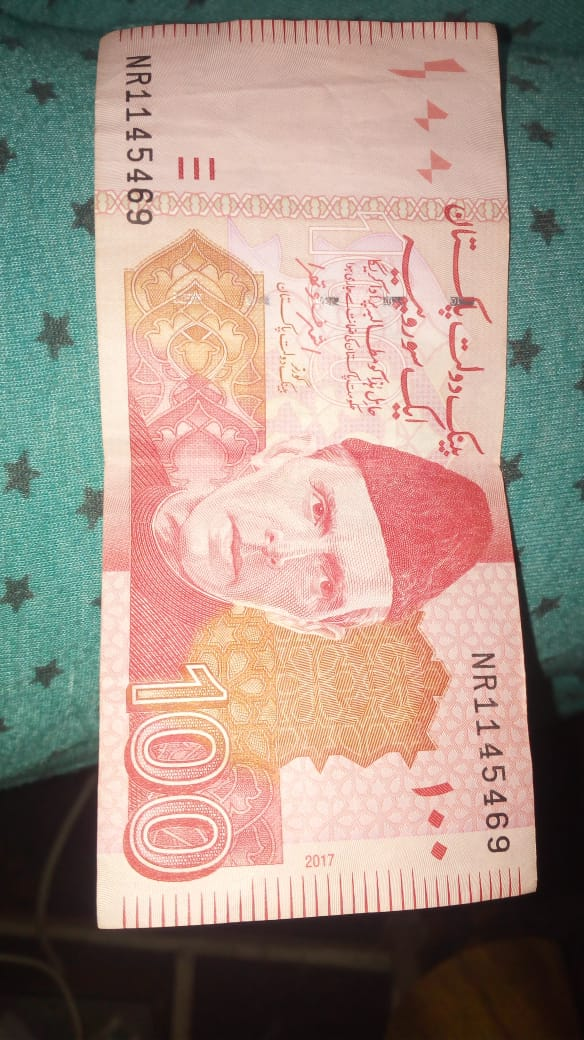100 rupee: (71, 24, 569, 940)
